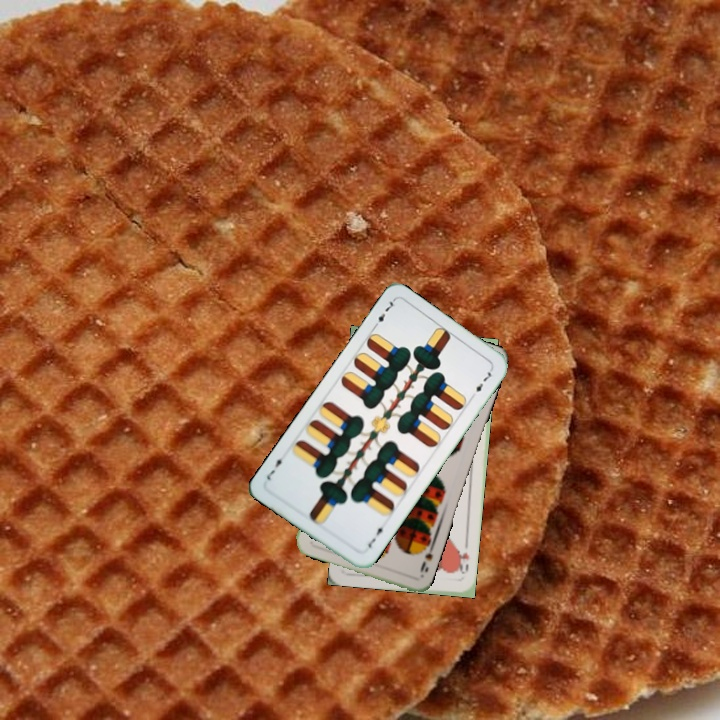E7: (369, 296, 398, 332), (364, 521, 388, 551)
HO: (453, 546, 471, 577)
S9: (416, 538, 437, 578)
